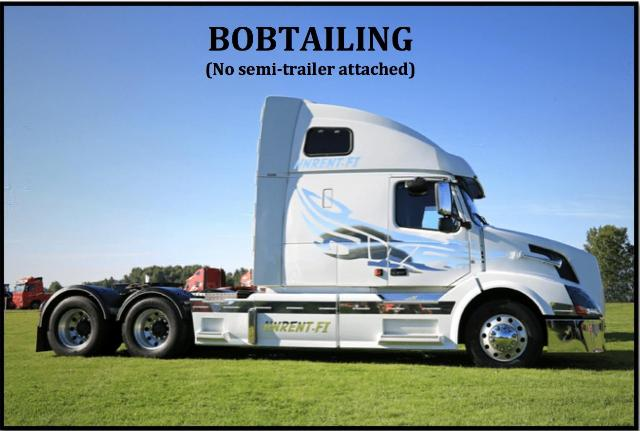truck: (44, 95, 632, 390)
